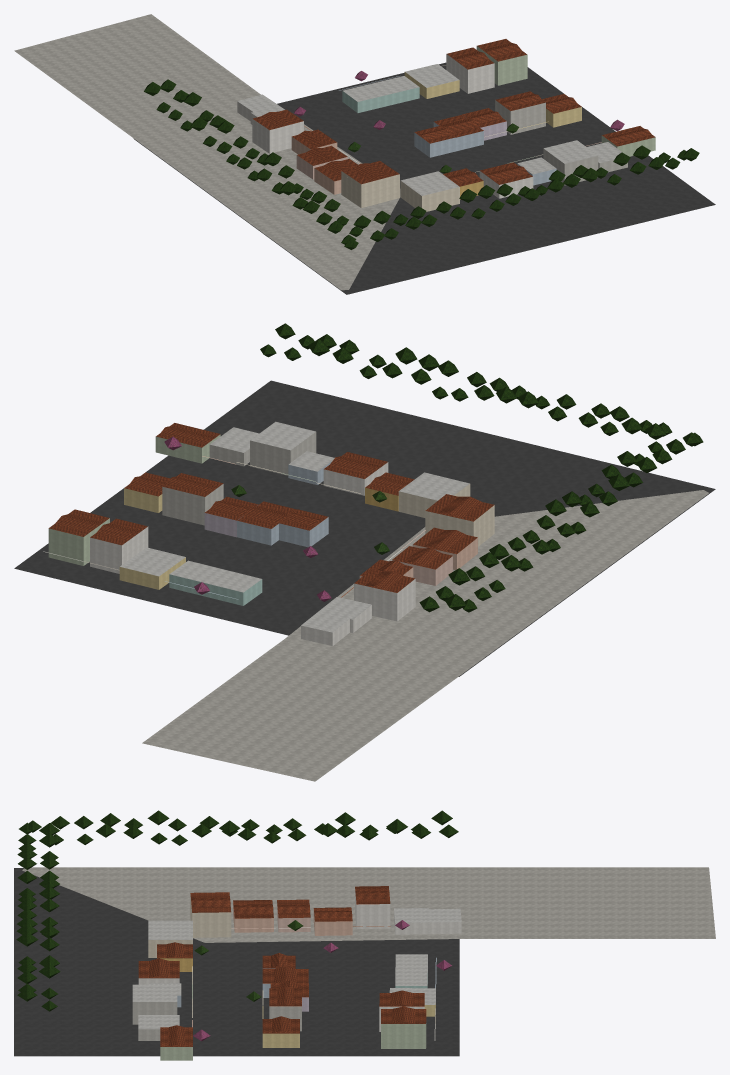
File: cidade_S00_00_lod.gltf
3 views of the same model, one above another, from view 1: azimuth 30°, elevation 25°; view 2: azimuth 150°, elevation 25°; view 3: azimuth 270°, elevation 25° (orthographic). The views are drawn at different scales.
Visible parts, largest first — view 1: S00_00_Chao_LOD2, S00_00_Edificios_LOD1, S00_00_Silhueta_LOD2, S00_00_Vegetacao_LOD2; view 2: S00_00_Chao_LOD2, S00_00_Edificios_LOD1, S00_00_Silhueta_LOD2, S00_00_Vegetacao_LOD2; view 3: S00_00_Chao_LOD2, S00_00_Edificios_LOD1, S00_00_Vegetacao_LOD2, S00_00_Silhueta_LOD2.
Part boxes in pixels (left/top/right/bottom): S00_00_Chao_LOD2: left=14, top=14, right=715, bottom=294; S00_00_Edificios_LOD1: left=237, top=42, right=655, bottom=211; S00_00_Silhueta_LOD2: left=252, top=39, right=655, bottom=207; S00_00_Vegetacao_LOD2: left=144, top=71, right=699, bottom=249; S00_00_Chao_LOD2: left=14, top=380, right=715, bottom=781; S00_00_Edificios_LOD1: left=43, top=421, right=494, bottom=645; S00_00_Silhueta_LOD2: left=48, top=423, right=494, bottom=620; S00_00_Vegetacao_LOD2: left=164, top=323, right=703, bottom=612; S00_00_Chao_LOD2: left=14, top=867, right=715, bottom=1056; S00_00_Edificios_LOD1: left=132, top=890, right=461, bottom=1060; S00_00_Vegetacao_LOD2: left=16, top=810, right=458, bottom=1041; S00_00_Silhueta_LOD2: left=138, top=886, right=426, bottom=1060.
Size of the model in its own units: 103 by 15.92 by 158.
20 materials, 20 textured.
